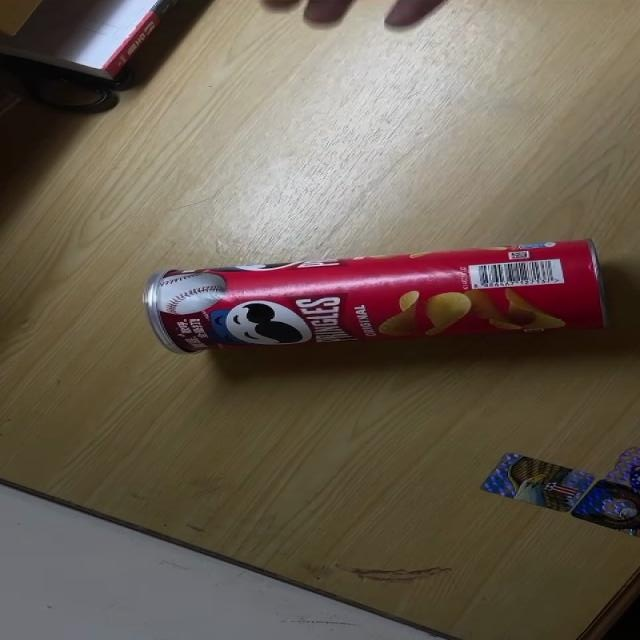Pringles: (142, 238, 608, 354)
